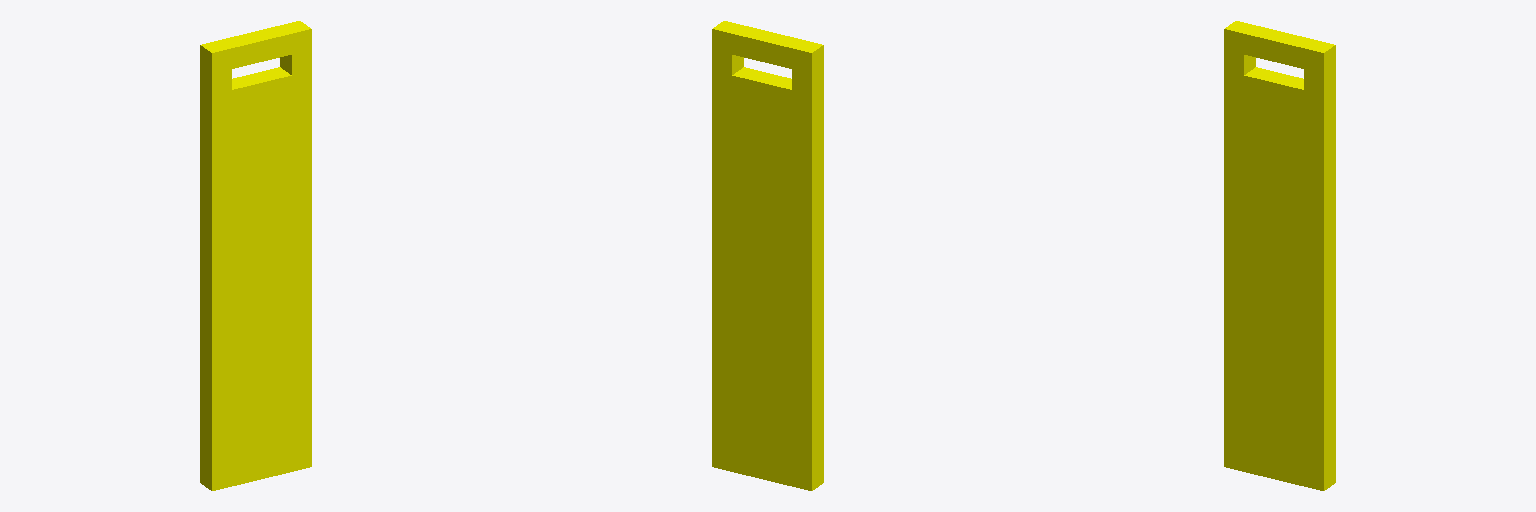
URDF robot description (box_dummy):
<?xml version="1.0"?>
<robot name="box_dummy">
  <material name="black">
    <color rgba="0.0 0.0 0.0 1.0"/>
  </material>
  <material name="orange">
    <color rgba="1.0 0.4 0.0 1.0"/>
  </material>

  <link name="base">
    <visual>
        <geometry>
            <box size="0.05 0.01 0.19"/>
        </geometry>
        <origin rpy="0 0 0" xyz="0 0 0"/>
        <material name="yellow">
            <color rgba="1 1 0 1"/>
        </material>
    </visual>
    <collision>
        <geometry>
          <box size="0.05 0.01 0.19"/>
        </geometry>
        <origin rpy="0 0 0" xyz="0 0 0"/>
    </collision>
    <inertial>
      <origin rpy="0 0 0" xyz="0 0 0"/>
       <mass value="0.01"/>
       <inertia ixx="1" ixy="0" ixz="0" iyy="1" iyz="0" izz="1"/>     
    </inertial>
    <surface>
        <friction>
          <ode>
            <mu>100000.0</mu>
            <mu2>100000.0</mu2>
          </ode>
        </friction>
        <contact>
          <ode>
            <min_depth>0.003</min_depth>
          </ode>
        </contact>
      </surface>
  </link>

  <link name="left_fillar">
   <visual>
        <geometry>
            <box size="0.01 0.01 0.01"/>
        </geometry>
        <origin rpy="0 0 0" xyz="0 0 0"/>
        <material name="yellow">
            <color rgba="1 1 0 1"/>
        </material>
    </visual>
    <collision>
        <geometry>
          <box size="0.01 0.01 0.01"/>
        </geometry>
        <origin rpy="0 0 0" xyz="0 0 0"/>
    </collision>
    <inertial>
      <origin rpy="0 0 0" xyz="0 0 0"/>
       <mass value="0.01"/>
       <inertia ixx="1" ixy="0" ixz="0" iyy="1" iyz="0" izz="1"/>       
    </inertial>
    <surface>
        <friction>
          <ode>
            <mu>100000.0</mu>
            <mu2>100000.0</mu2>
          </ode>
        </friction>
        <contact>
          <ode>
            <min_depth>0.003</min_depth>
          </ode>
        </contact>
      </surface>
  </link>

  

  <joint name="base_to_left_fillar" type="fixed">
    <parent link="base"/>
    <child link="left_fillar"/>
    <origin rpy="0 0 0" xyz="0.02 0 0.1"/>
  </joint>

  <link name="right_fillar">
   <visual>
        <geometry>
            <box size="0.01 0.01 0.01"/>
        </geometry>
        <origin rpy="0 0 0" xyz="0 0 0"/>
        <material name="yellow">
            <color rgba="1 1 0 1"/>
        </material>
    </visual>
    <collision>
        <geometry>
          <box size="0.01 0.01 0.01"/>
        </geometry>
        <origin rpy="0 0 0" xyz="0 0 0"/>
    </collision>
    <inertial>
      <origin rpy="0 0 0" xyz="0 0 0"/>
       <mass value="0.01"/>
       <inertia ixx="1" ixy="0" ixz="0" iyy="1" iyz="0" izz="1"/>       
    </inertial>
    <surface>
        <friction>
          <ode>
            <mu>100000.0</mu>
            <mu2>100000.0</mu2>
          </ode>
        </friction>
        <contact>
          <ode>
            <min_depth>0.003</min_depth>
          </ode>
        </contact>
      </surface>
  </link>

  <joint name="base_to_right_fillar" type="fixed">
    <parent link="base"/>
    <child link="right_fillar"/>
    <origin rpy="0 0 0" xyz="-0.02 0 0.1"/>
  </joint>

  <link name="top_fillar">
   <visual>
        <geometry>
            <box size="0.05 0.01 0.01"/>
        </geometry>
        <origin rpy="0 0 0" xyz="0 0 0"/>
        <material name="yellow">
            <color rgba="1 1 0 1"/>
        </material>
    </visual>
    <collision>
        <geometry>
         <box size="0.05 0.01 0.01"/>
        </geometry>
        <origin rpy="0 0 0" xyz="0 0 0"/>
    </collision>
    <inertial>
      <origin rpy="0 0 0" xyz="0 0 0"/>
       <mass value="0.01"/>
       <inertia ixx="1" ixy="0" ixz="0" iyy="1" iyz="0" izz="1"/>     
    </inertial>
    <surface>
        <friction>
          <ode>
            <mu>100000.0</mu>
            <mu2>100000.0</mu2>
          </ode>
        </friction>
        <contact>
          <ode>
            <min_depth>0.003</min_depth>
          </ode>
        </contact>
      </surface>
  </link>

  <joint name="base_to_top_fillar" type="fixed">
    <parent link="base"/>
    <child link="top_fillar"/>
    <origin rpy="0 0 0" xyz="0 0 0.11"/>
  </joint>

</robot>

--- Facts derived from the render (not from the file) ---
The picture shows the robot from 3 angles, left to right: view 1: azimuth 30°, elevation 25°; view 2: azimuth 150°, elevation 25°; view 3: azimuth 330°, elevation 25°; orthographic projection.
Model box_dummy with 4 links and 3 joints (3 fixed), rooted at base, posed every joint at zero.
Links seen in each view (by area): view 1: base, top_fillar, right_fillar, left_fillar; view 2: base, top_fillar, right_fillar, left_fillar; view 3: base, top_fillar, left_fillar, right_fillar.
Boxes of the visible links, x1=… form: base: x1=200, y1=67, x2=311, y2=490; top_fillar: x1=200, y1=21, x2=311, y2=73; right_fillar: x1=200, y1=66, x2=231, y2=94; left_fillar: x1=280, y1=50, x2=311, y2=74; base: x1=712, y1=67, x2=823, y2=490; top_fillar: x1=712, y1=21, x2=823, y2=73; right_fillar: x1=792, y1=66, x2=823, y2=94; left_fillar: x1=712, y1=50, x2=743, y2=74; base: x1=1224, y1=67, x2=1335, y2=490; top_fillar: x1=1224, y1=21, x2=1335, y2=73; left_fillar: x1=1304, y1=66, x2=1335, y2=94; right_fillar: x1=1224, y1=50, x2=1255, y2=74.
Size in the robot's own frame: 0.05 by 0.01 by 0.21 metres.
Geometry: primitives only (box / cylinder / sphere), no mesh files.